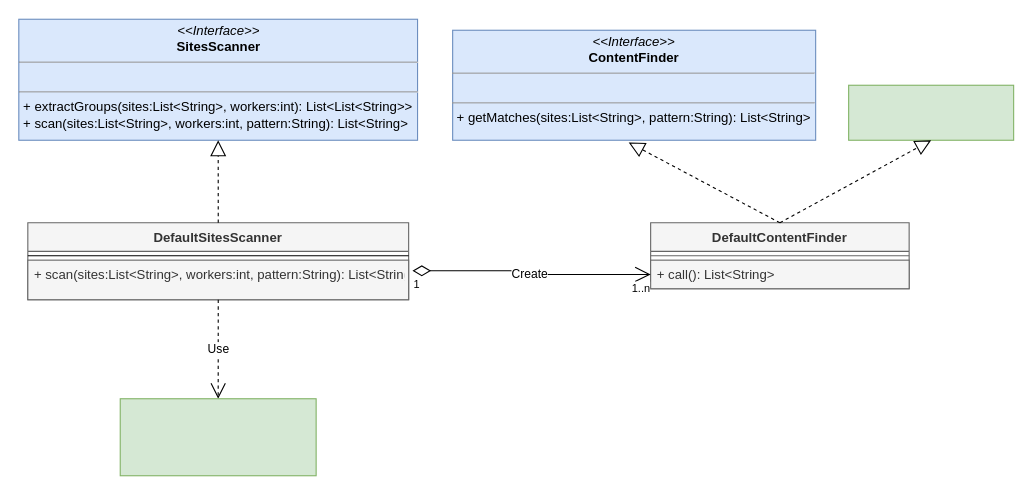
This 1034x495 diagram has some shape labels left out. Here are the shapes that lost their labels. From the top down, the centre of each, then its label:
point (931, 112): «interface» java.util.concurrent Callable
point (217, 437): «interface» java.util.concurrent ExecutorService
